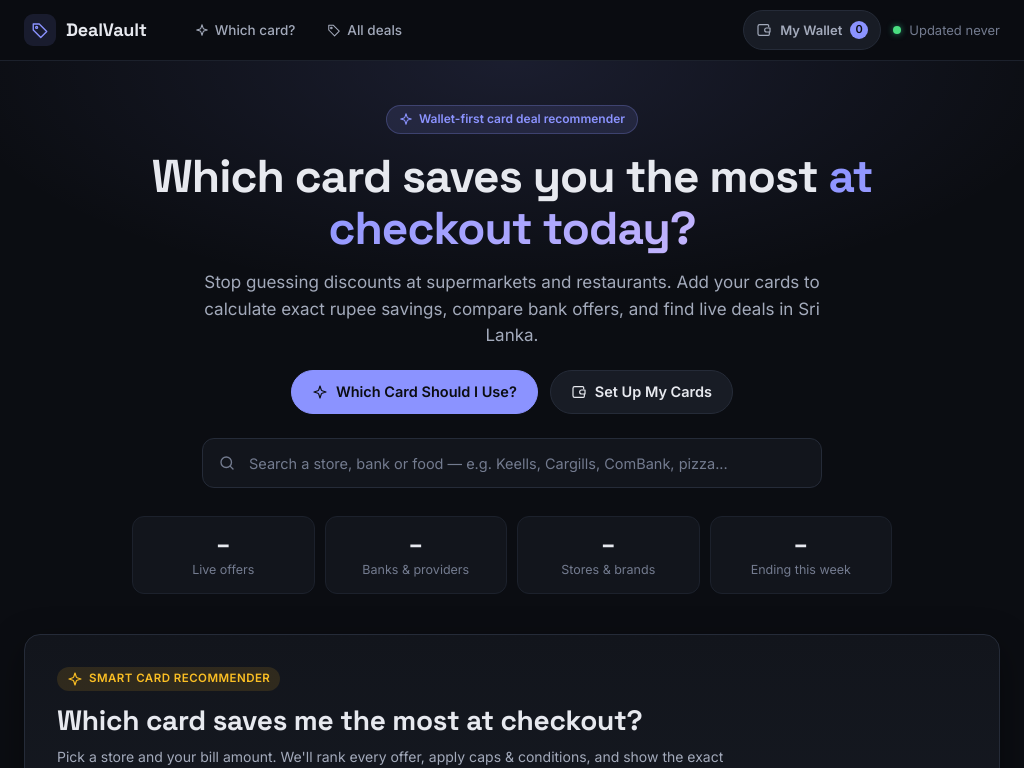
App › opens and manages the My Card Wallet modal
Click the button "My Wallet 0". click: [812, 30]
box: [743, 10, 881, 50]
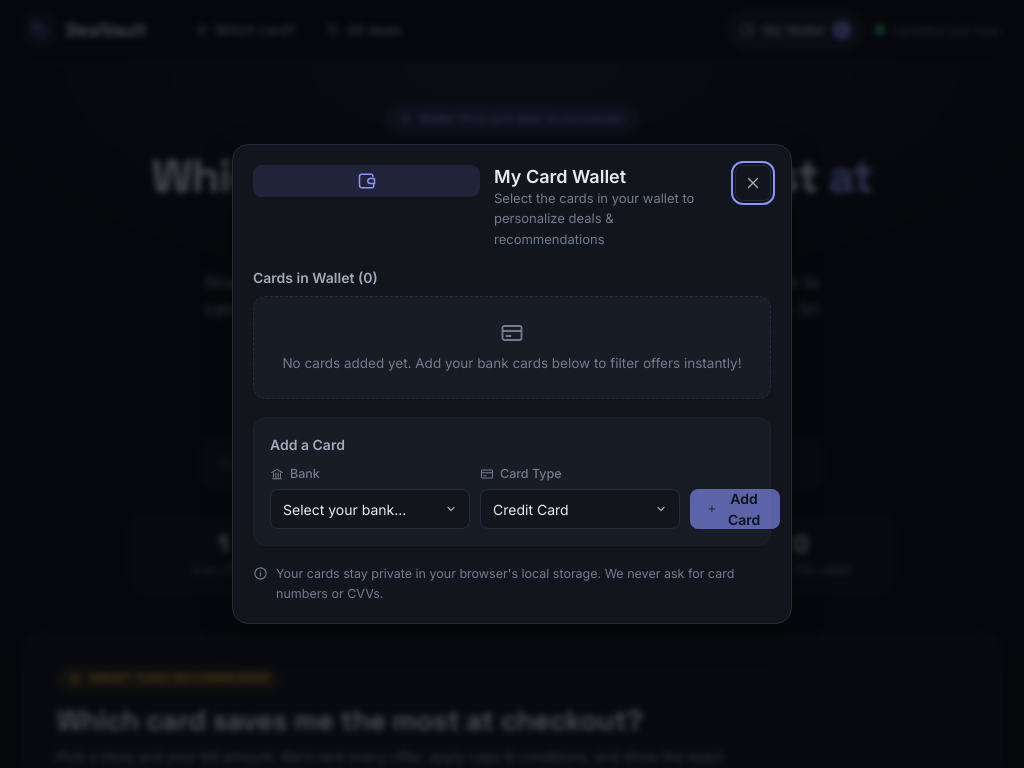
Expected: the heading "My Card Wallet" is shown, [494, 166, 626, 187]
Expected: the text "No cards added yet" is shown, [282, 355, 742, 371]
